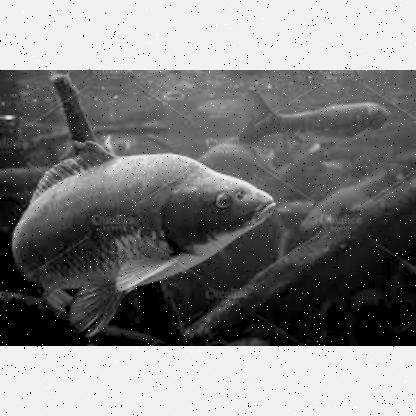ikan-mas: (0, 140, 280, 336)
